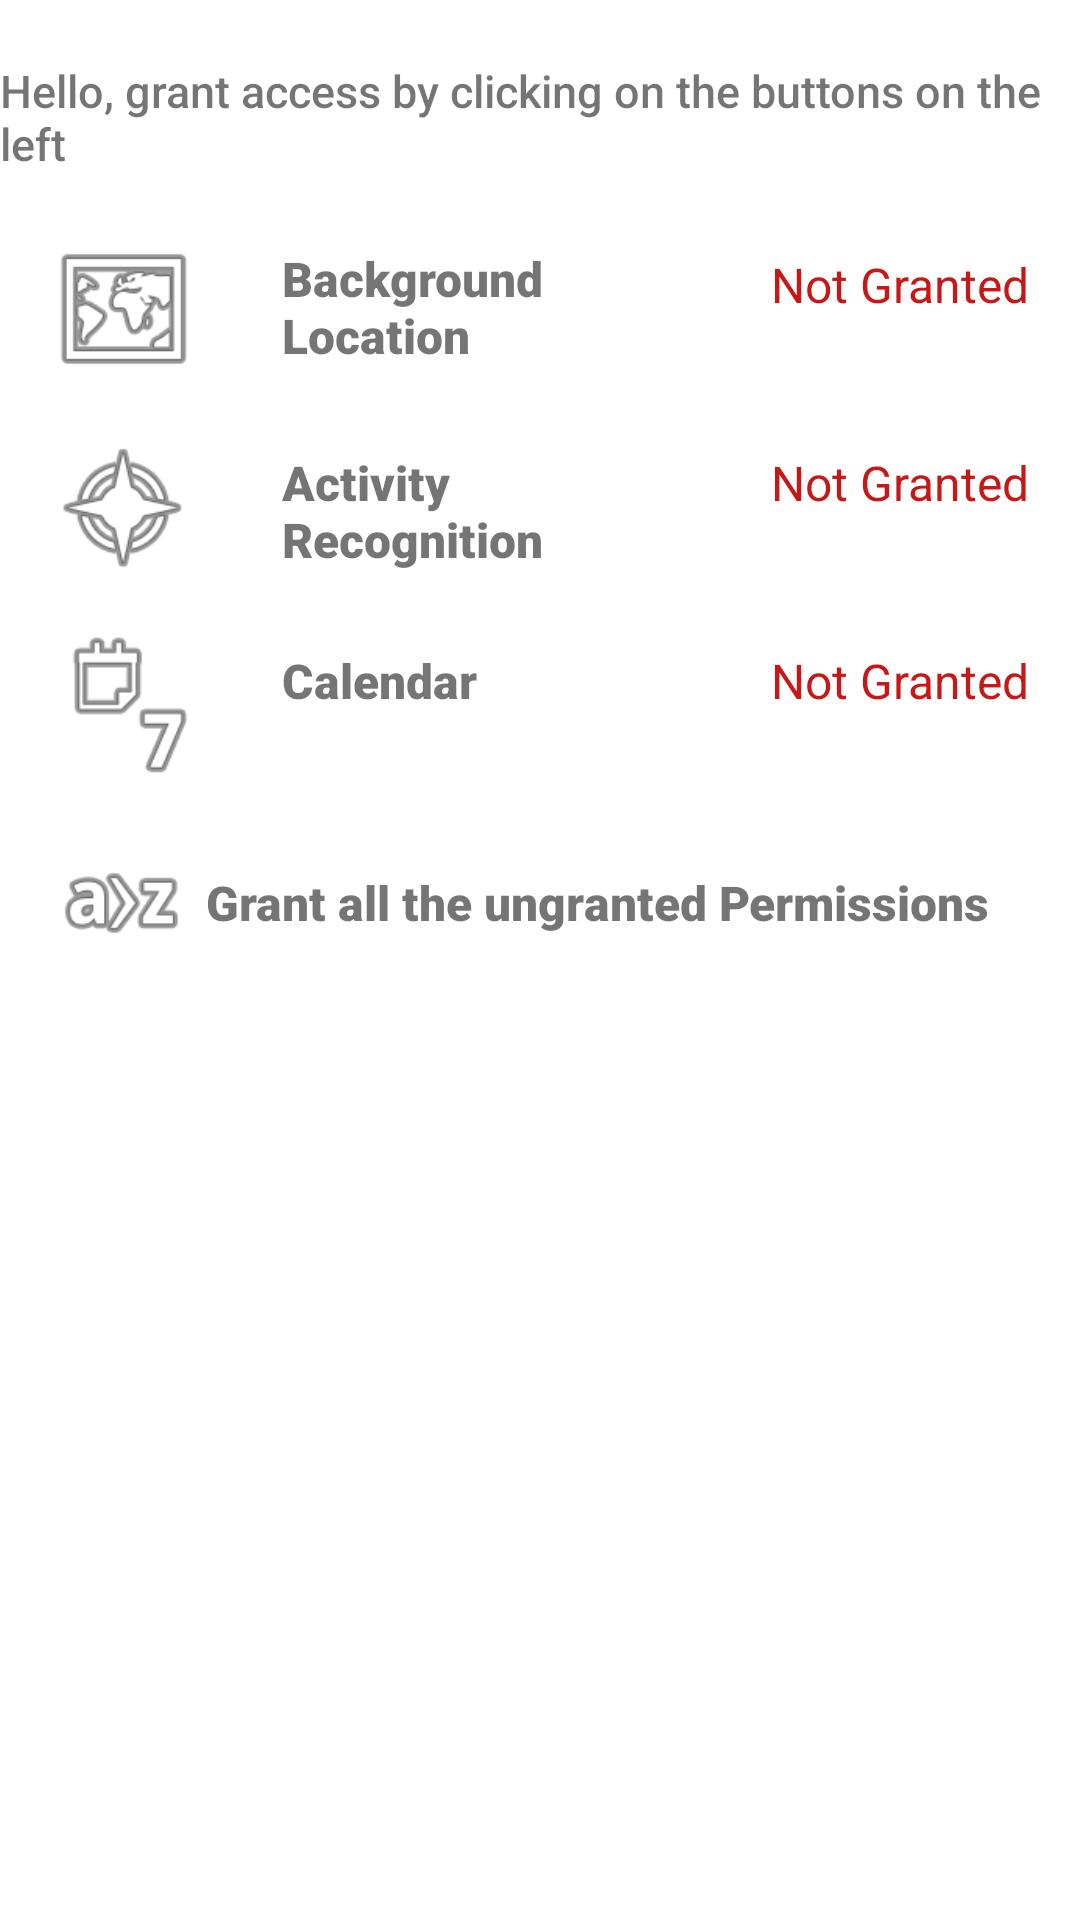

Screen size 1080*1920. Icon name, then its box in pixels as (x1, y1, x2, y2):
compass: (63, 449, 182, 567)
mapmode: (61, 254, 187, 364)
sort alphabetically: (65, 873, 178, 933)
week: (73, 637, 187, 773)
